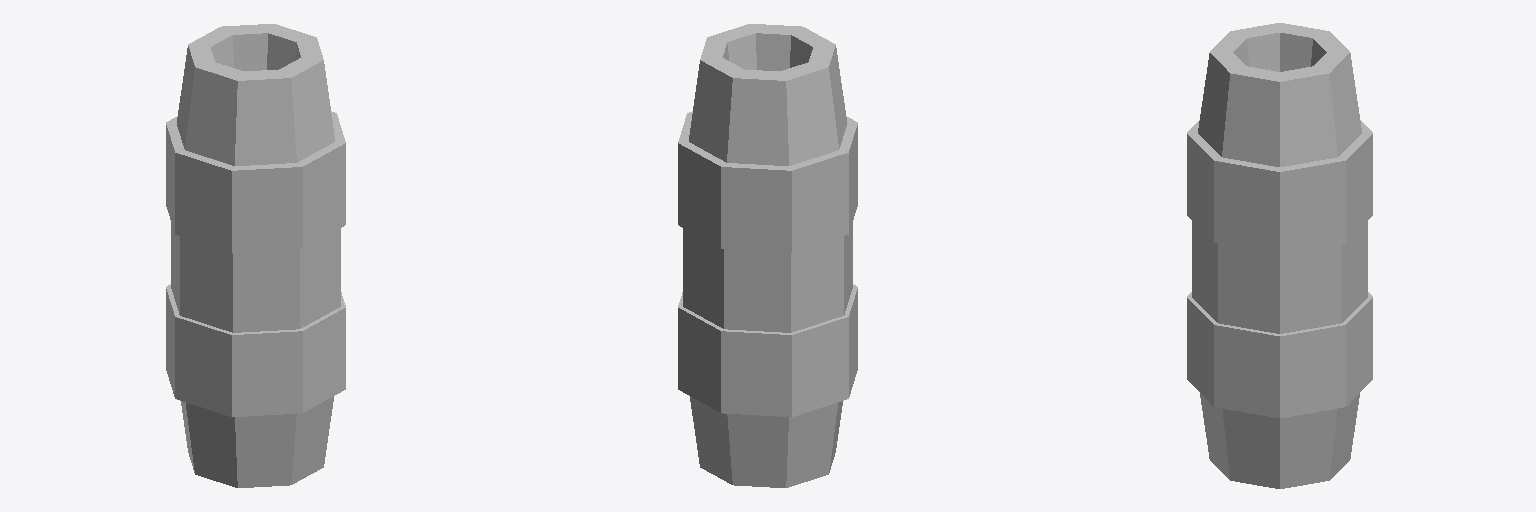
File: barrelwide_k2.obj
3 renders of one model, left to right at view 1: azimuth 30°, elevation 25°; view 2: azimuth 150°, elevation 25°; view 3: azimuth 270°, elevation 25°, orthographic.
Visible parts, largest first — view 1: barrel; view 2: barrel; view 3: barrel.
Boxes of the visible parts, <box> form: barrel: <box>166,24,345,487</box>; barrel: <box>678,24,857,487</box>; barrel: <box>1187,23,1372,488</box>.
Size of the model in its own units: 1.34 by 3.22 by 1.34.